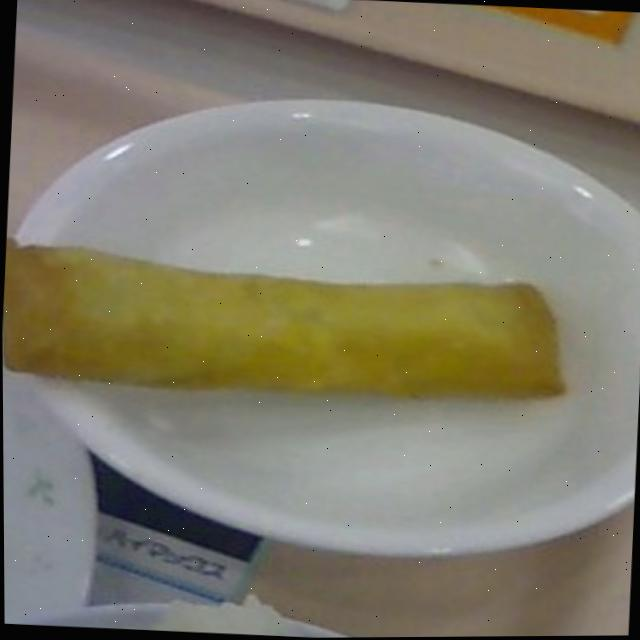鸡蛋料理: (1, 228, 571, 420)
